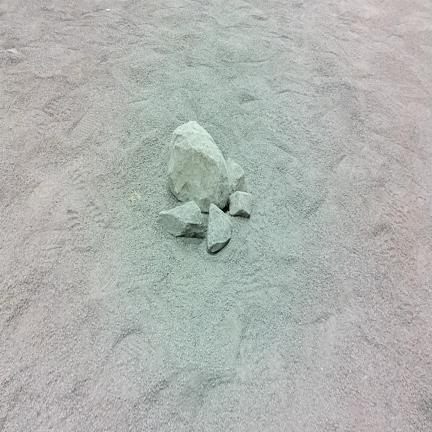Rock: (168, 121, 229, 212), (156, 201, 204, 238), (208, 203, 231, 252), (227, 158, 246, 194), (229, 191, 251, 216)
